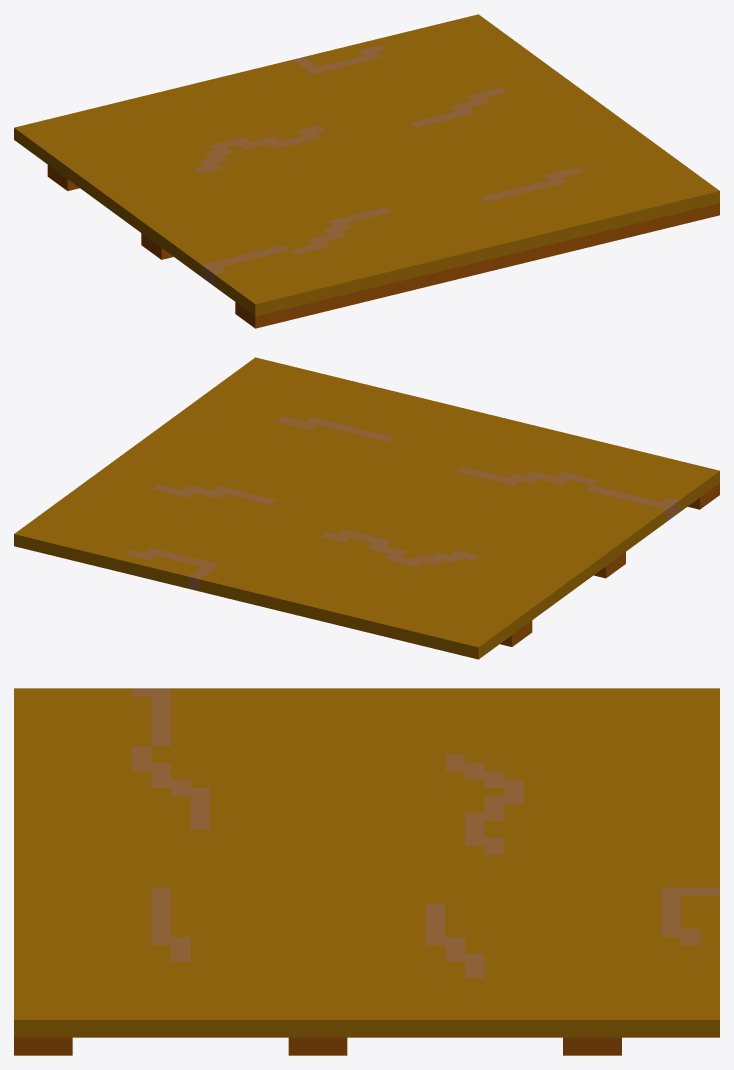
The model's file is roof.obj.
3 renders of one model, top to bottom at view 1: azimuth 30°, elevation 25°; view 2: azimuth 150°, elevation 25°; view 3: azimuth 270°, elevation 25°, orthographic. The views are drawn at different scales.
Size of the model in its own units: 4 by 0.2 by 3.6.
1 material, 1 textured.
